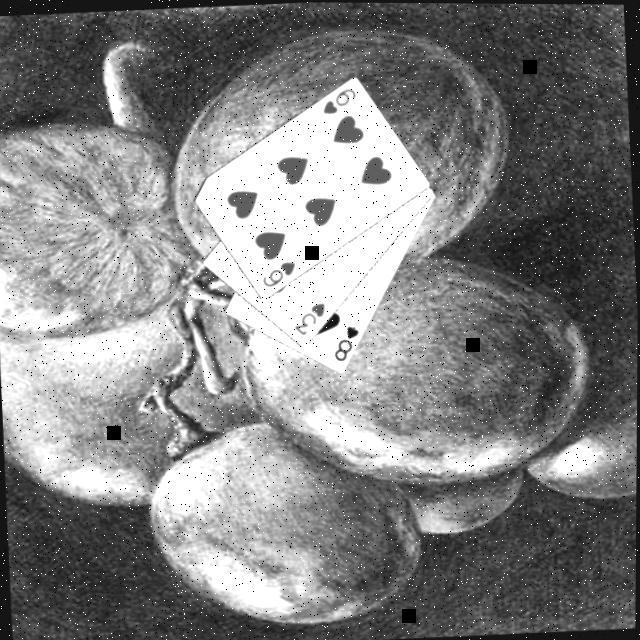3H: (288, 300, 328, 340)
6H: (256, 260, 298, 292), (316, 87, 358, 119)
8S: (328, 324, 362, 366)
